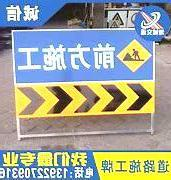sign: (12, 27, 158, 120)
